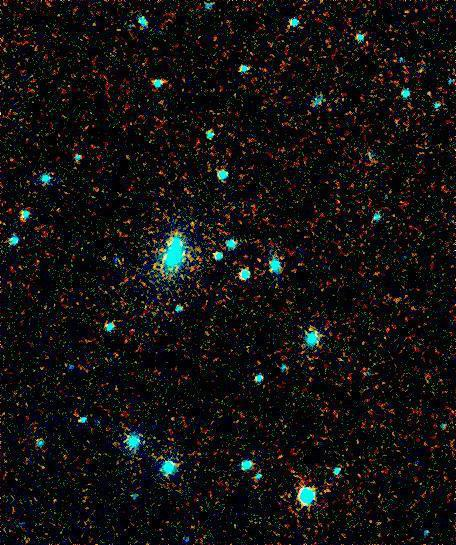star: (411, 77, 441, 107)
